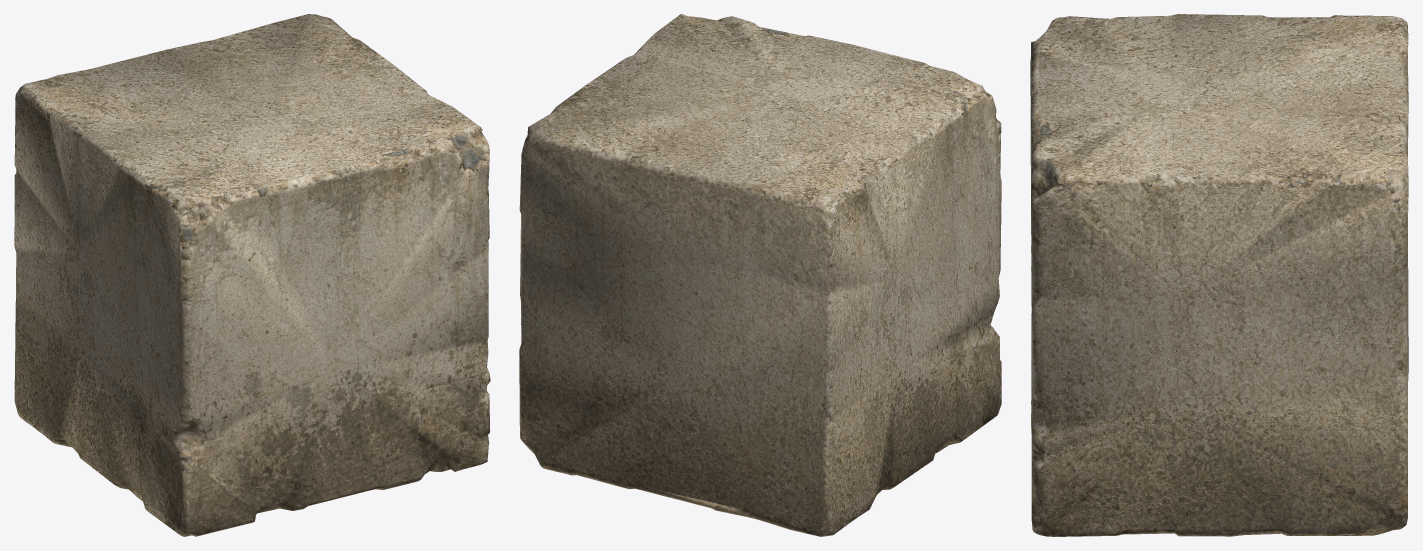
Rendered from concrete_block_3d_model.fbx.
The picture shows the model from 3 angles, left to right: view 1: azimuth 30°, elevation 25°; view 2: azimuth 150°, elevation 25°; view 3: azimuth 270°, elevation 25°; orthographic projection. The views are drawn at different scales.
Visible parts, largest first — view 1: tripo_node_b866202b; view 2: tripo_node_b866202b; view 3: tripo_node_b866202b.
Part boxes in pixels (box(x1,y1,x2,y2)): tripo_node_b866202b: box(14, 14, 490, 536); tripo_node_b866202b: box(519, 14, 1001, 536); tripo_node_b866202b: box(1030, 14, 1408, 536).
Bounding box in the file's own units: 0.9751 × 0.9995 × 0.9409.
